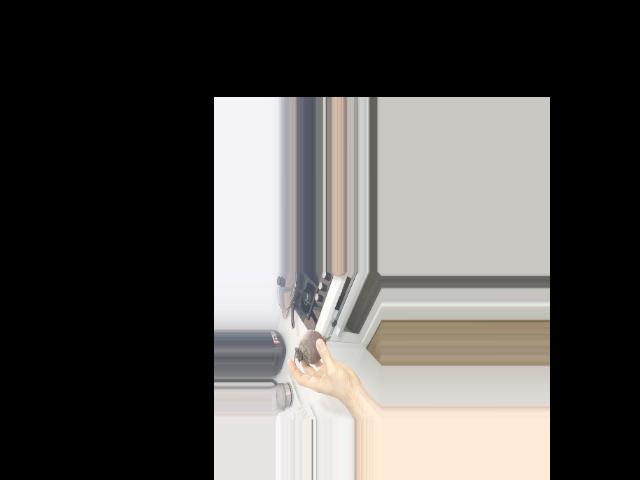beet: (294, 329, 331, 373)
